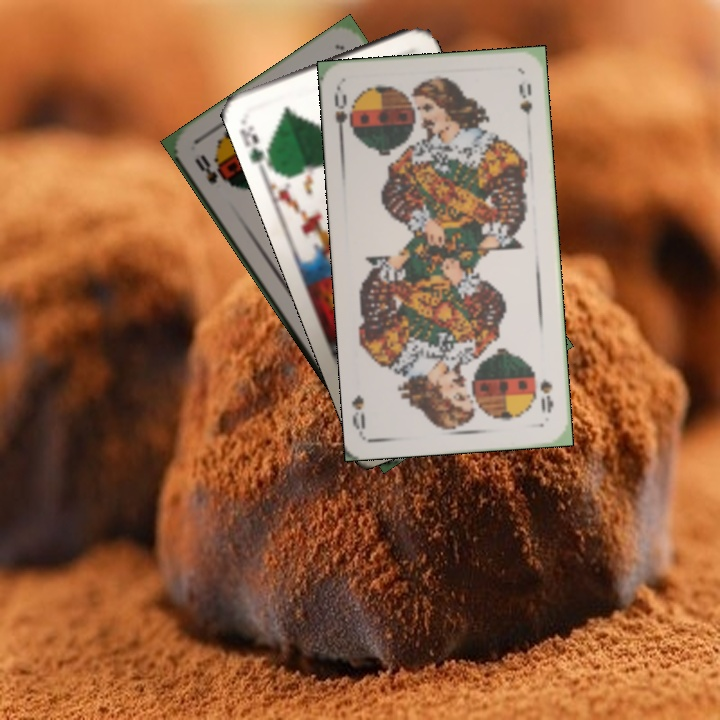GK: (235, 121, 275, 168)
SO: (330, 85, 356, 144), (190, 150, 229, 187), (536, 374, 556, 416)
